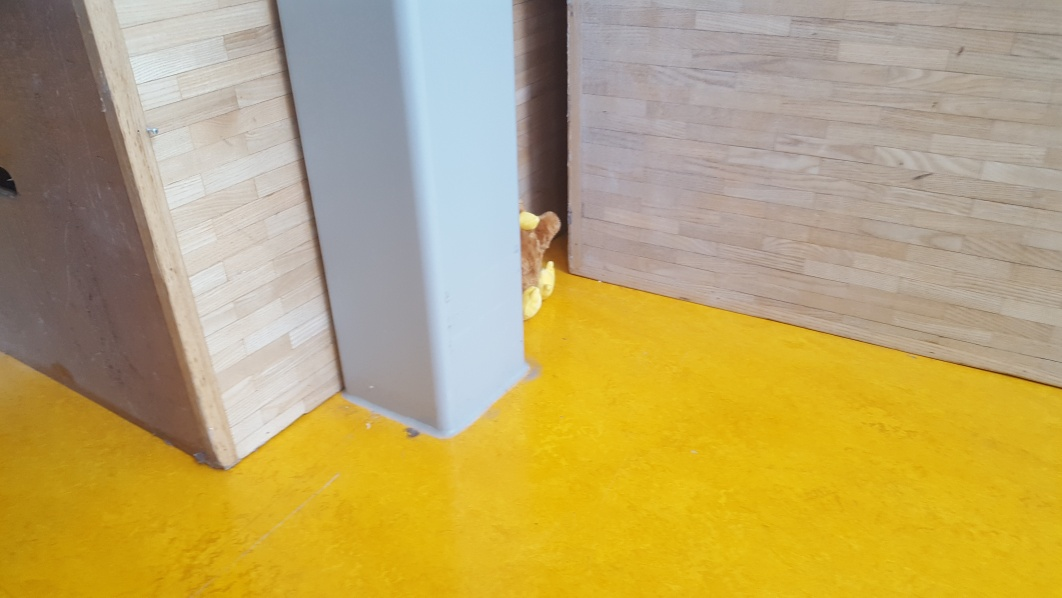chicken: (519, 206, 566, 329)
